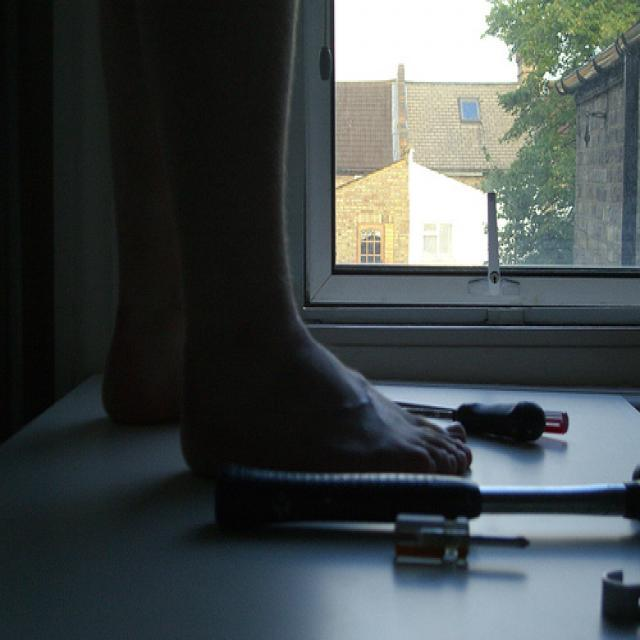screwdriver: (368, 511, 538, 573), (378, 392, 562, 442)
